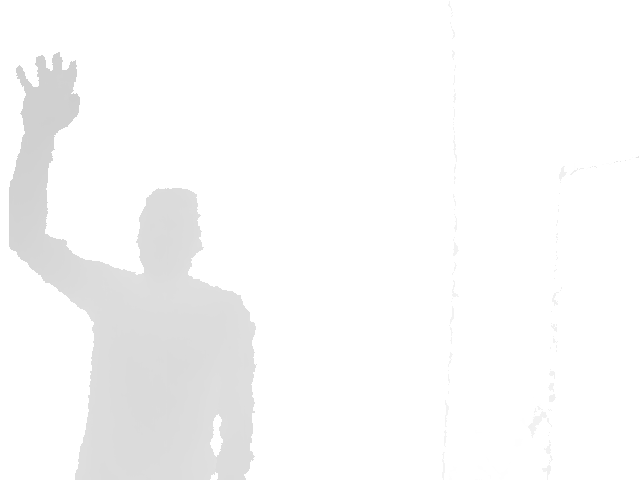hand: (6, 51, 82, 135)
head: (135, 186, 203, 276)
person: (7, 51, 256, 480)
